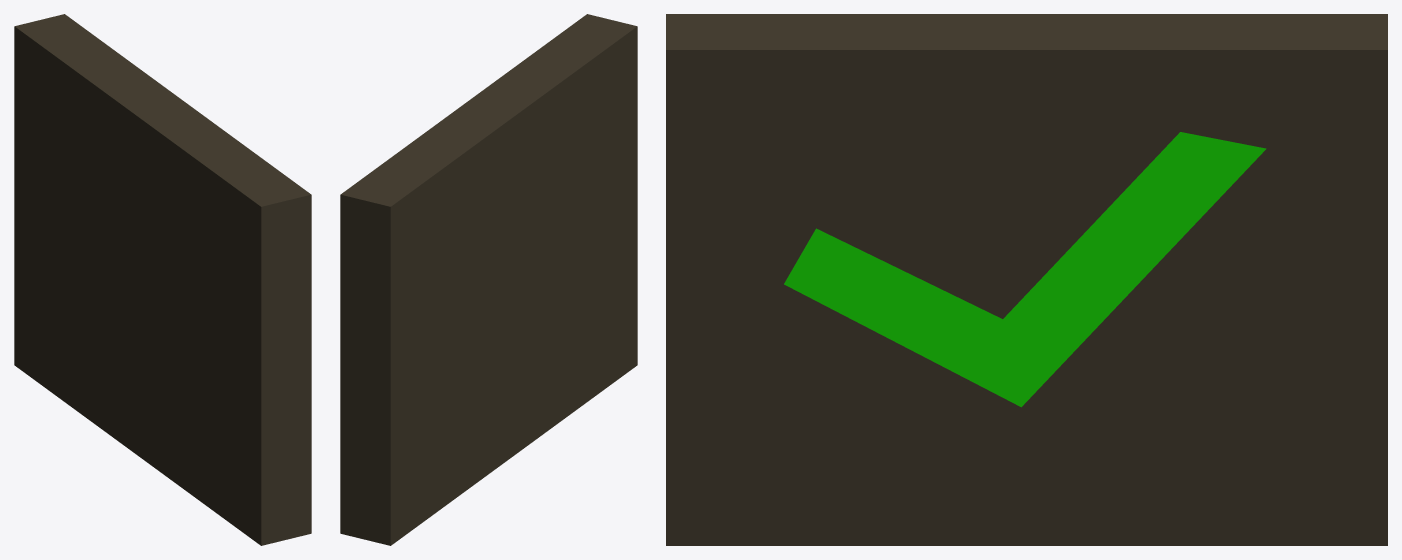
Rendered from signgood.glb.
3 renders of one model, left to right at view 1: azimuth 30°, elevation 25°; view 2: azimuth 150°, elevation 25°; view 3: azimuth 270°, elevation 25°, orthographic. The views are drawn at different scales.
Visible parts, largest first — view 1: Cube; view 2: Cube; view 3: Cube.
Part boxes in pixels (x1,y1,x2,y2): Cube: [14, 14, 311, 545]; Cube: [340, 14, 637, 545]; Cube: [666, 14, 1387, 545].
Bounding box in the file's own units: 0.3105 × 2 × 2.64.
